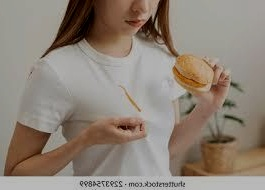mustard: (124, 93, 140, 107), (133, 105, 142, 115), (121, 84, 128, 93)
